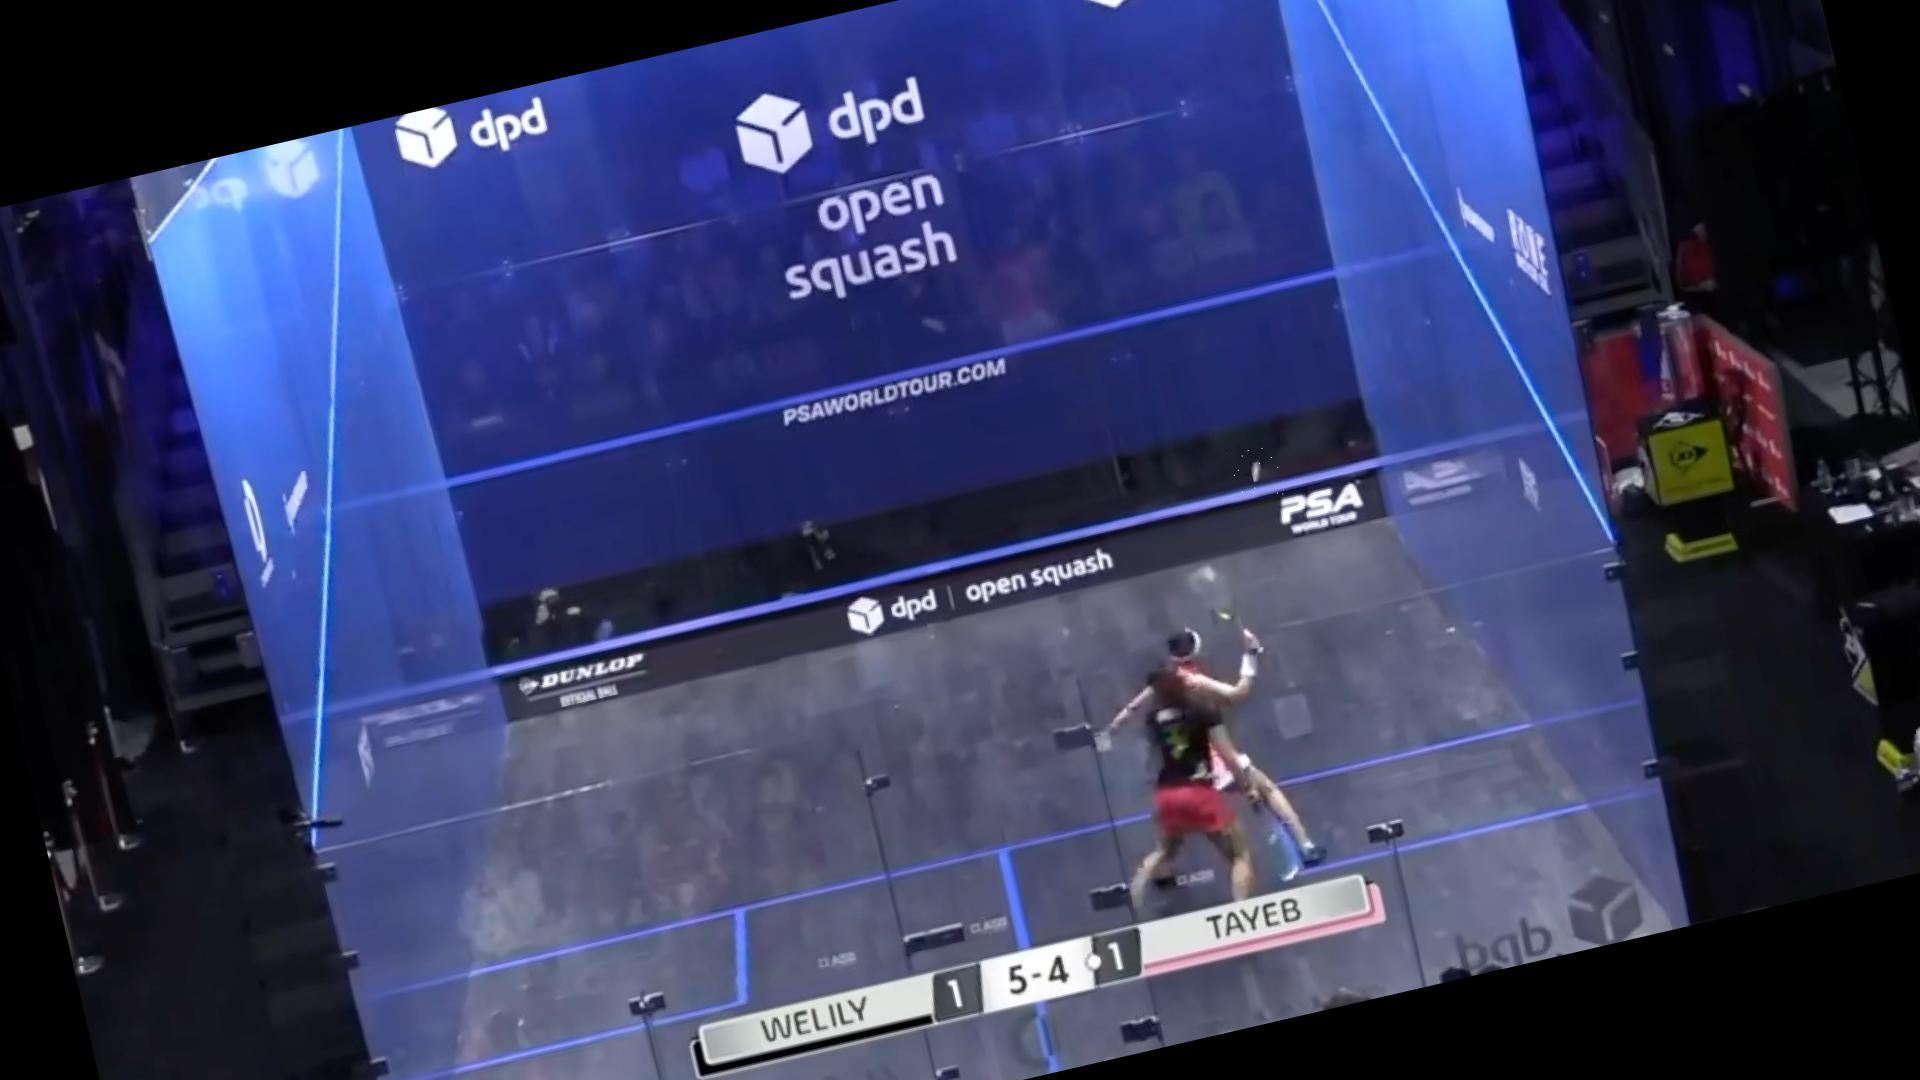Squash-Ball: (1225, 436, 1284, 505)
